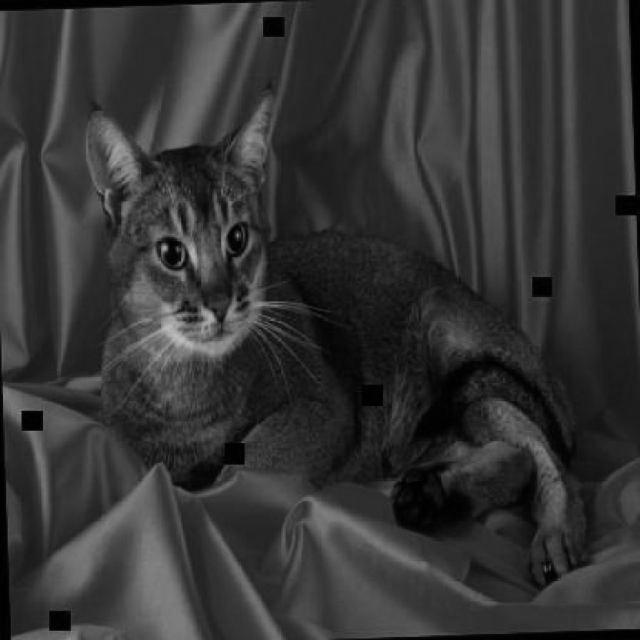Cat: (85, 77, 588, 608)
